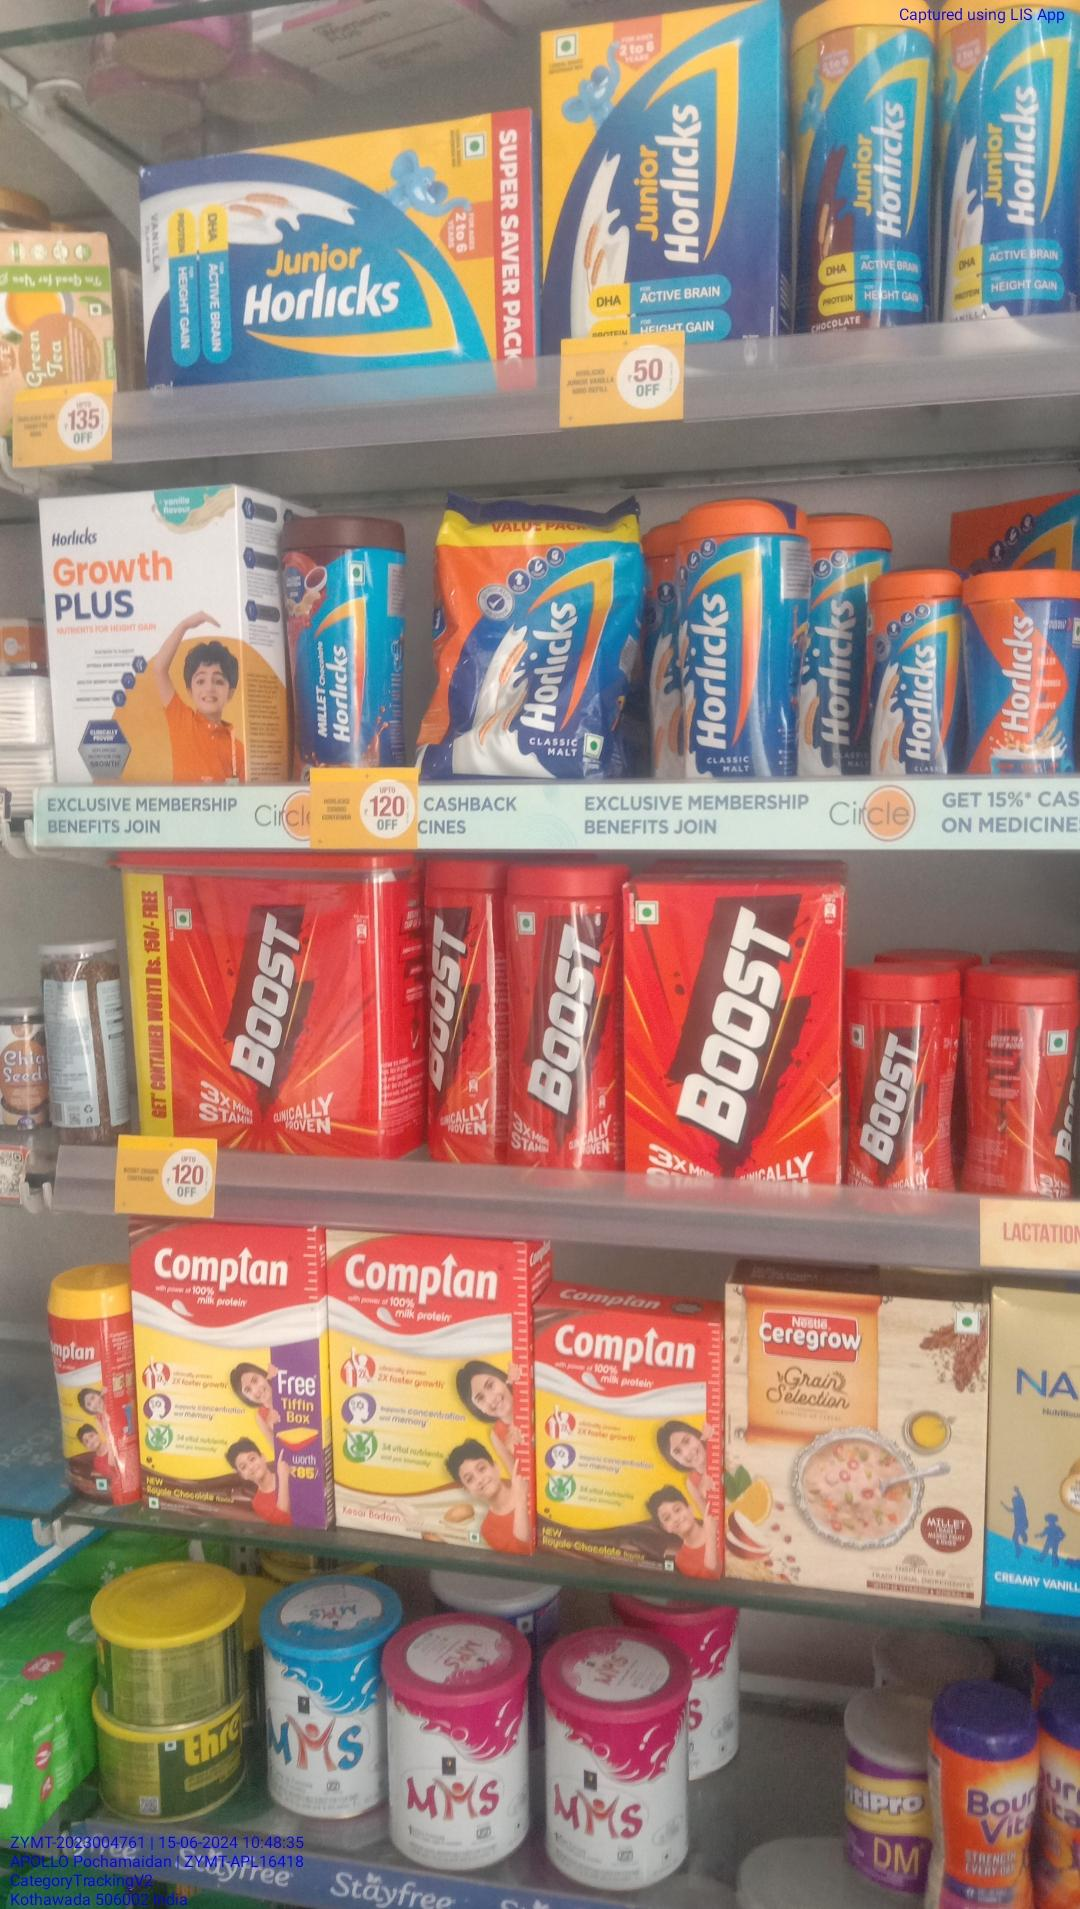BOURN_VITA_200_G_JAR: (928, 1697, 1026, 1909)
COMPLAN_CHOCOLATE_200_GMS_PACK: (535, 1301, 718, 1567)
COMPLAN_CHOCOLATE_500_GMS_JAR: (48, 1277, 128, 1508)
COMPLAN_CHOCOLATE_500_GMS_PACK: (136, 1235, 320, 1524)
COMPLAN_KESAR_BADAM_500_GMS_PACK: (329, 1227, 527, 1548)
HORLICK_CLASSIC_MALT_200_G_JAR: (970, 573, 1080, 776), (864, 573, 962, 776)
HORLICK_CLASSIC_MALT_500_G_JAR: (678, 497, 798, 779)
